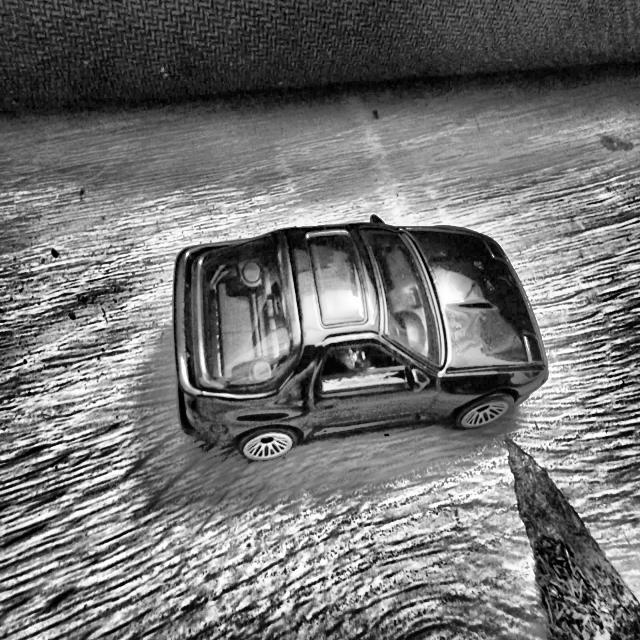car: (172, 214, 549, 462)
